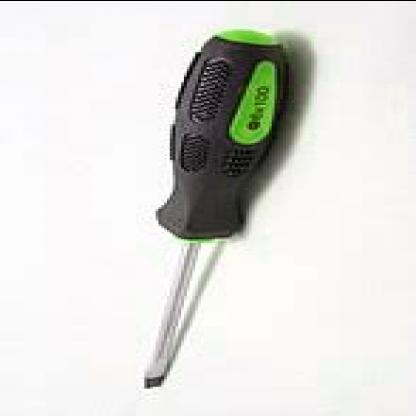Screw Driver: (142, 28, 316, 387)
